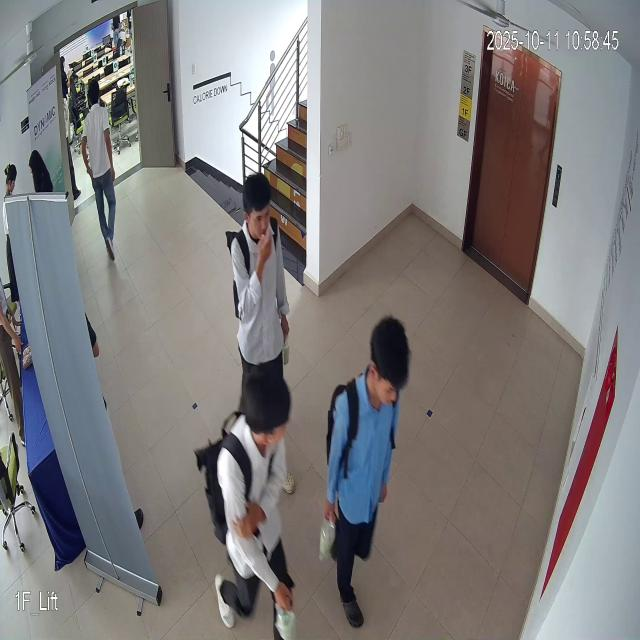face: (242, 170, 274, 249)
